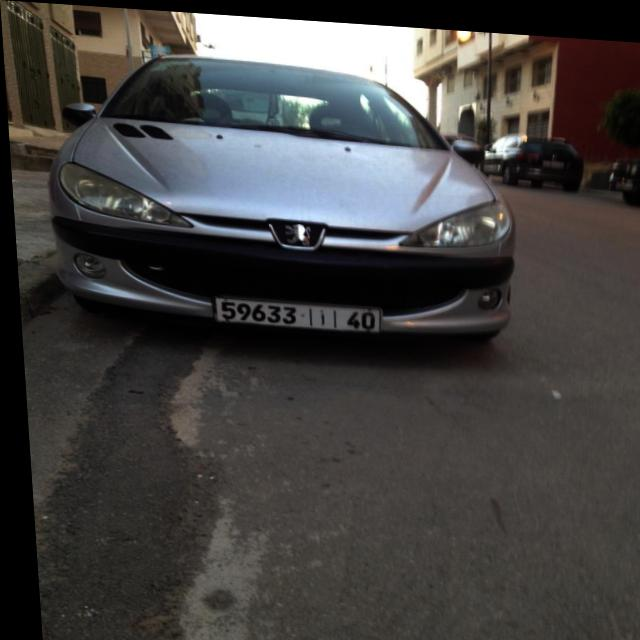License-Plate: (210, 294, 378, 328)
